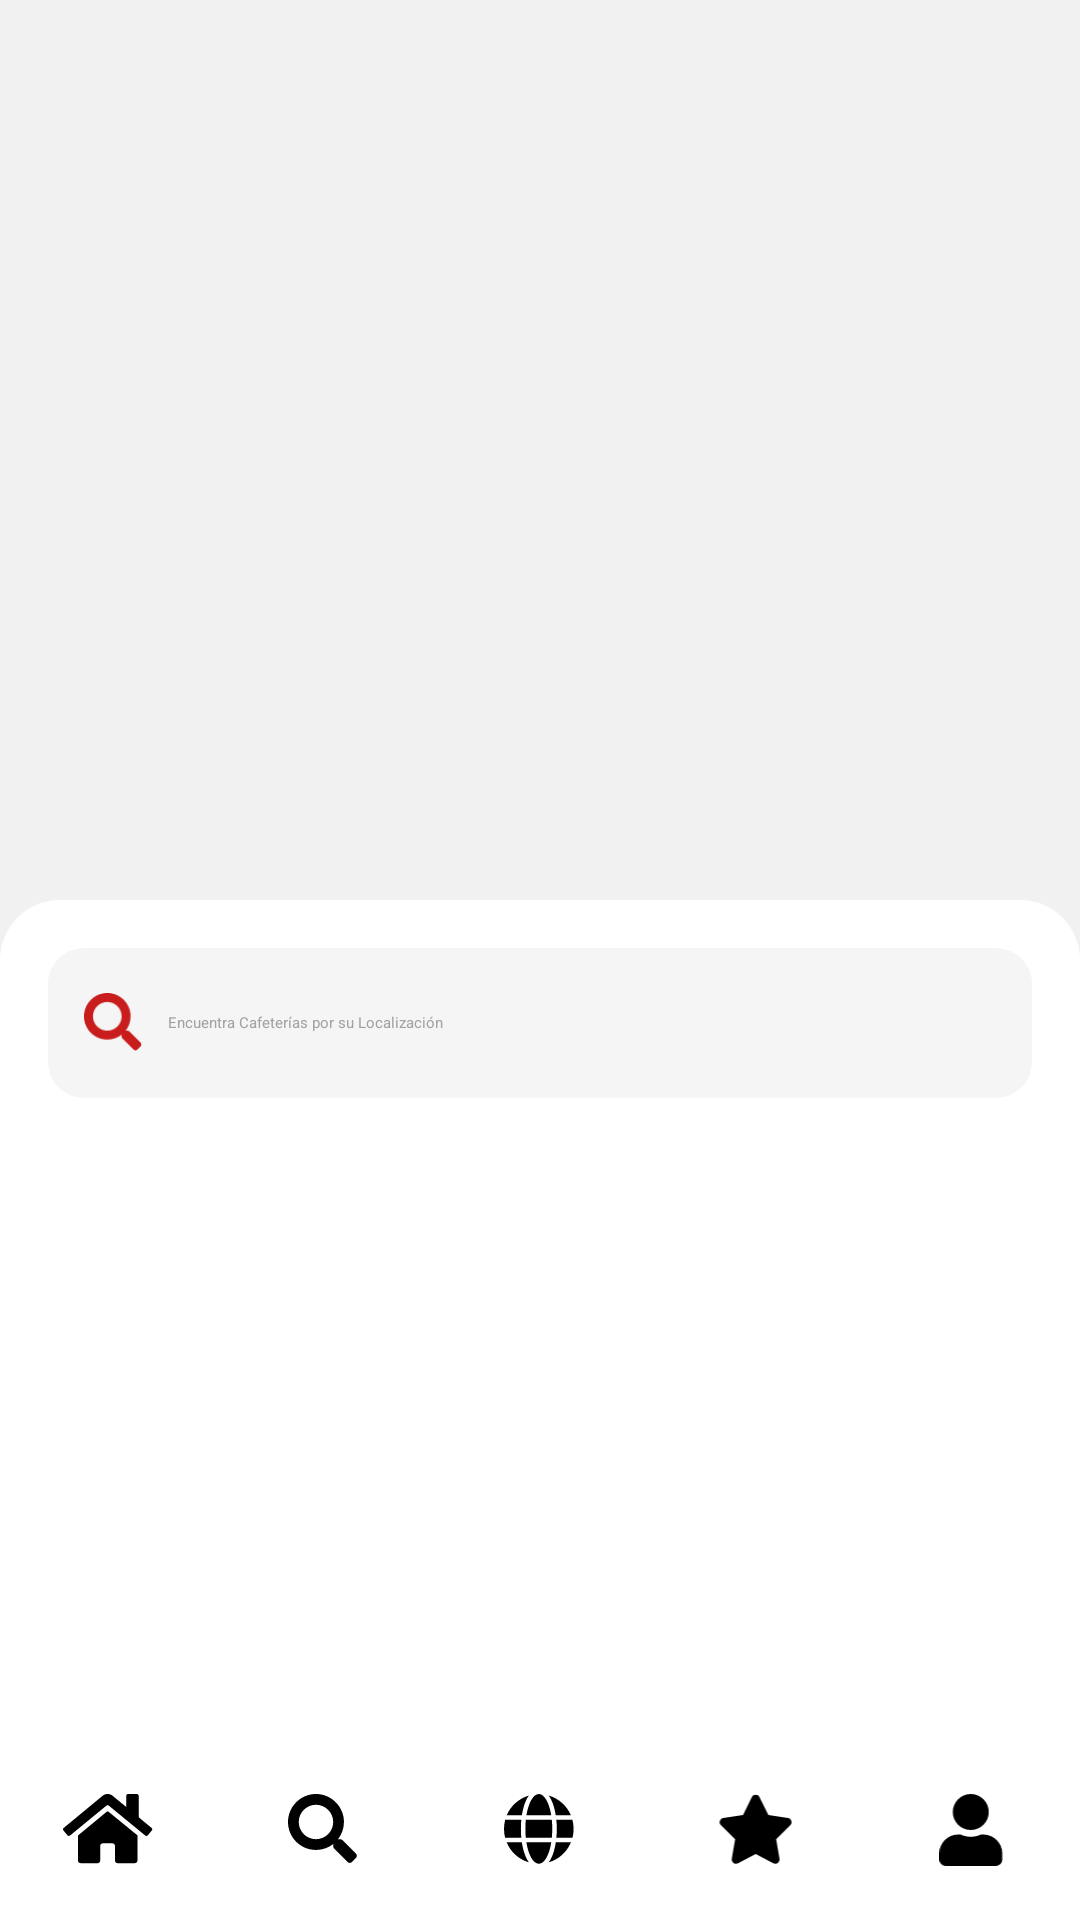

Screen size 1080w x 1920h. Icon name, then its center in pixels as [x,y]:
globe: [539,1829]
home: [108,1829]
search: [113,1022], [322,1828]
star: [755,1829]
user: [971,1830]
